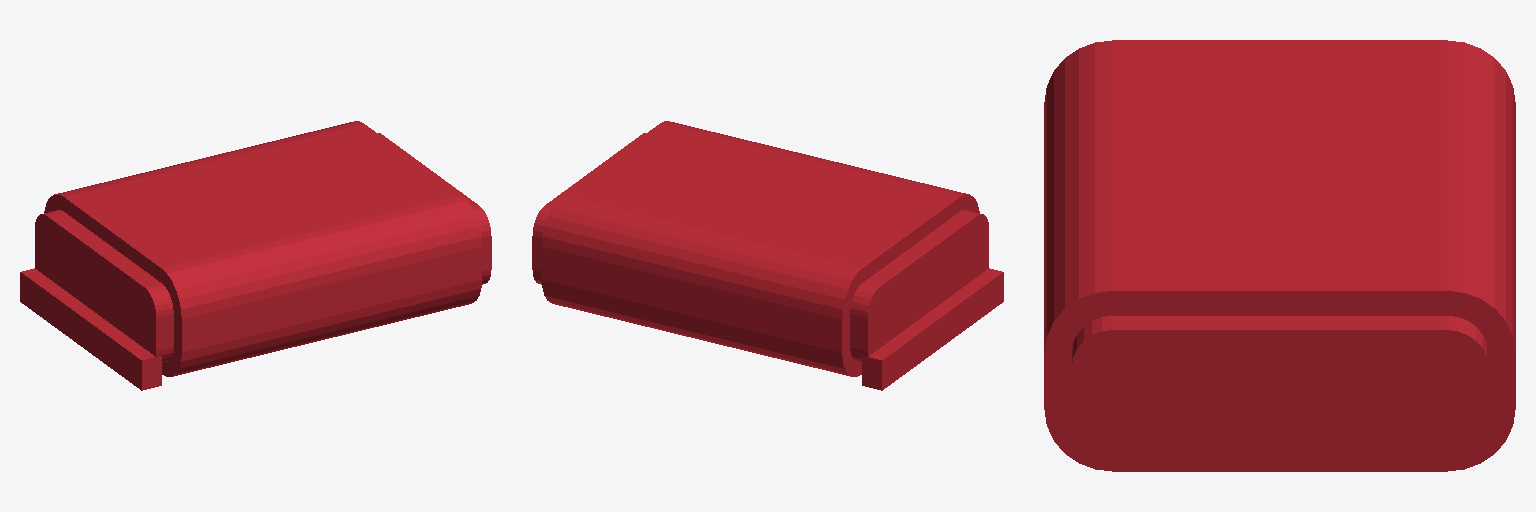
URDF robot description (nova_environment_object_0308):
<?xml version="1.0" encoding="utf-8"?>
<!-- Nova movable environment body for the bundled PyBullet launcher. SI metres/kg/radians. Loaded at its body origin; hinge/slider bodies use a fixed world_anchor base with one passive joint. Inertia is about COM. -->
<robot name="nova_environment_object_0308">
  <link name="body">
    <inertial>
      <origin xyz="0 0 0.0175" rpy="0 0 0" />
      <mass value="0.06" />
      <inertia ixx="4.90605556e-05" iyy="9.8605e-05" izz="0.000135415556" ixy="0" ixz="0" iyz="0" />
    </inertial>
    <visual>
      <origin xyz="0 0 0" rpy="0 0 0" />
      <geometry>
        <mesh filename="object_0308.obj" />
      </geometry>
      <material name="surface">
        <color rgba="0.78 0.2 0.25 1" />
      </material>
    </visual>
    <collision>
      <origin xyz="0 0 0" rpy="0 0 0" />
      <geometry>
        <mesh filename="object_0308_collision_00.obj" />
      </geometry>
    </collision>
  </link>
</robot>

--- Render facts (derived) ---
Views: 3 orthographic renders of the robot side by side, from view 1: azimuth 30°, elevation 25°; view 2: azimuth 150°, elevation 25°; view 3: azimuth 270°, elevation 25°.
Robot: nova_environment_object_0308 — 1 links, 0 joints (none); root link body; default pose: all joints at 0.
Links seen in each view (by area): view 1: body; view 2: body; view 3: body.
Boxes of the visible links, bbox=[...] form: body: bbox=[20, 121, 491, 390]; body: bbox=[532, 121, 1003, 390]; body: bbox=[1044, 40, 1515, 471].
Size in the robot's own frame: 0.121 by 0.0827 by 0.035 metres.
Meshes: 1 distinct files referenced, 1 mesh visuals loaded (1 OBJ).
